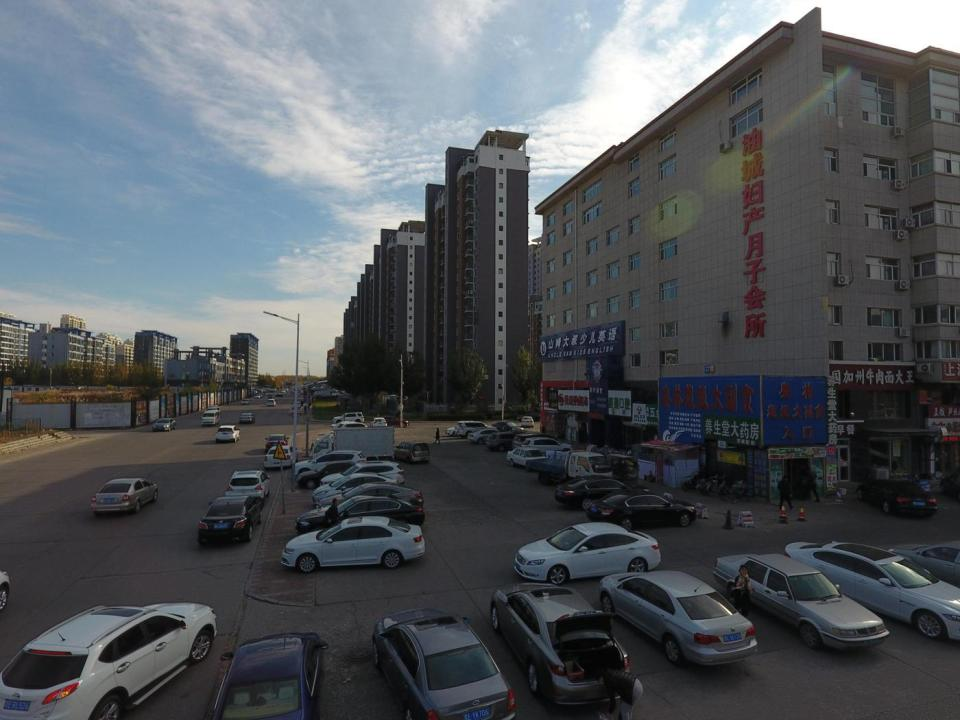car: (0, 600, 218, 718), (784, 540, 960, 642), (714, 552, 890, 651), (490, 583, 629, 708), (371, 607, 517, 720), (600, 570, 756, 668), (209, 631, 325, 720), (514, 521, 661, 583), (281, 516, 427, 572), (298, 493, 423, 536), (588, 489, 696, 530), (886, 541, 960, 595), (317, 482, 423, 516), (856, 478, 936, 521), (198, 495, 264, 547), (554, 476, 641, 511), (313, 471, 397, 506), (328, 461, 406, 494), (91, 477, 159, 514), (296, 461, 362, 492), (295, 452, 365, 480), (224, 468, 271, 501), (393, 438, 431, 463), (264, 444, 296, 470), (336, 422, 376, 439), (214, 424, 240, 441), (265, 434, 288, 453), (330, 420, 364, 432), (332, 412, 363, 425), (152, 418, 176, 432), (378, 416, 410, 426), (516, 411, 546, 421), (206, 404, 221, 417), (371, 417, 387, 429), (238, 413, 255, 424), (521, 416, 534, 427), (240, 399, 250, 405), (275, 393, 283, 397), (257, 394, 263, 398), (254, 395, 260, 398), (289, 390, 295, 393), (283, 388, 288, 391), (281, 390, 285, 393), (288, 388, 292, 390)
truck: (311, 425, 396, 465), (526, 451, 612, 485), (523, 437, 571, 459), (506, 446, 550, 469), (512, 432, 558, 453), (485, 431, 527, 452), (456, 420, 496, 437), (467, 428, 505, 444), (444, 422, 480, 438), (491, 420, 523, 434), (292, 401, 302, 416), (312, 391, 330, 398)
van: (201, 410, 220, 427), (267, 398, 276, 406)
